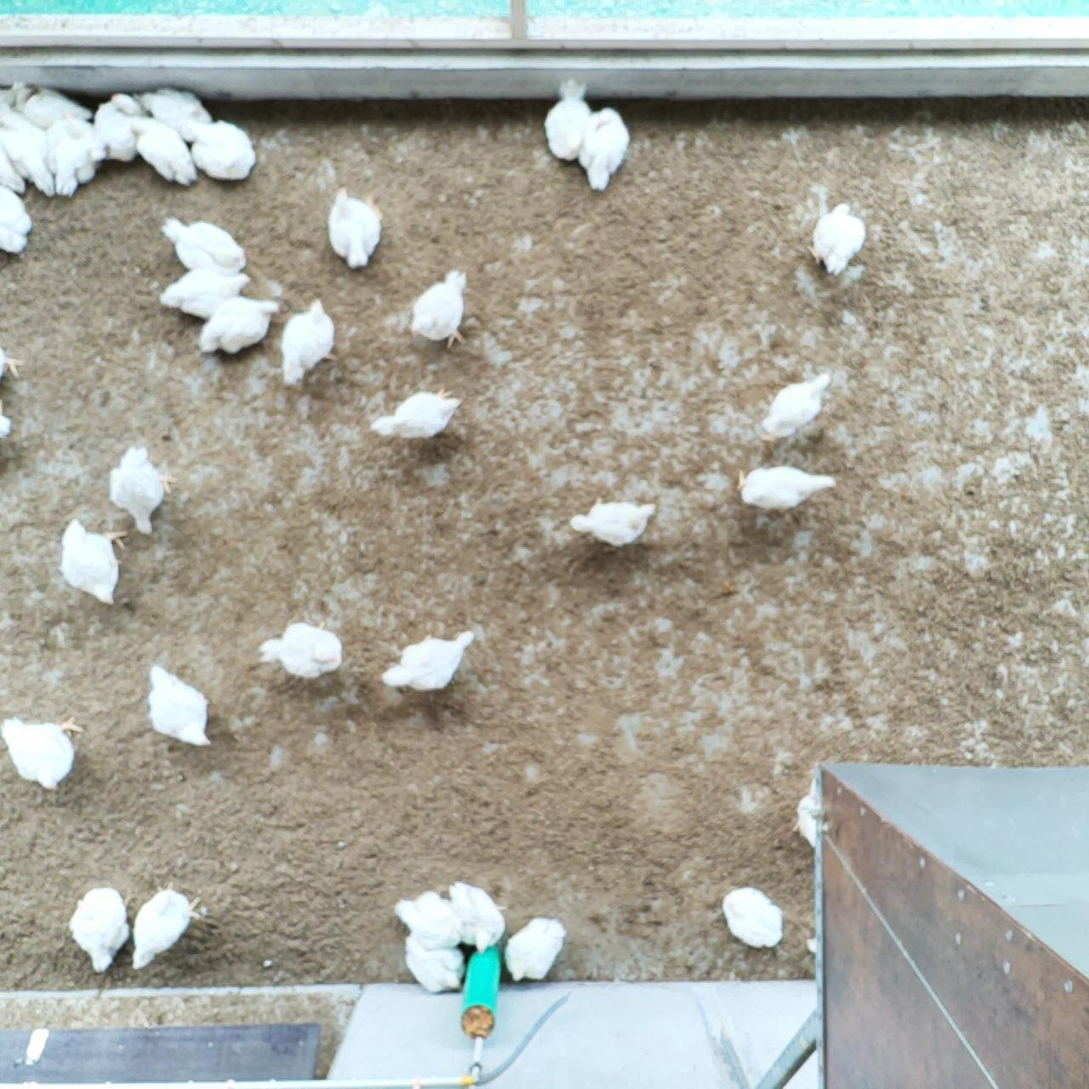chicken: (0, 713, 85, 794), (107, 443, 177, 537), (131, 881, 203, 972), (57, 518, 130, 606), (378, 629, 476, 694), (195, 293, 293, 357), (158, 264, 257, 326), (0, 95, 57, 202), (180, 105, 259, 182), (145, 660, 212, 749), (753, 371, 832, 446), (278, 294, 341, 387), (163, 215, 251, 281), (125, 113, 200, 187), (69, 885, 131, 974), (133, 81, 215, 145), (406, 267, 468, 351), (574, 101, 631, 192), (568, 494, 660, 549), (257, 621, 344, 679), (444, 879, 509, 956), (371, 387, 462, 442), (736, 463, 838, 512), (806, 199, 868, 277), (330, 185, 386, 271), (41, 112, 94, 200), (393, 887, 465, 951), (38, 110, 102, 182), (546, 80, 600, 164), (399, 929, 467, 995), (91, 92, 152, 165), (721, 883, 786, 950), (503, 914, 566, 982), (790, 777, 847, 851), (10, 85, 93, 133), (0, 341, 26, 443), (0, 178, 33, 258), (0, 137, 27, 195), (0, 81, 25, 106)
